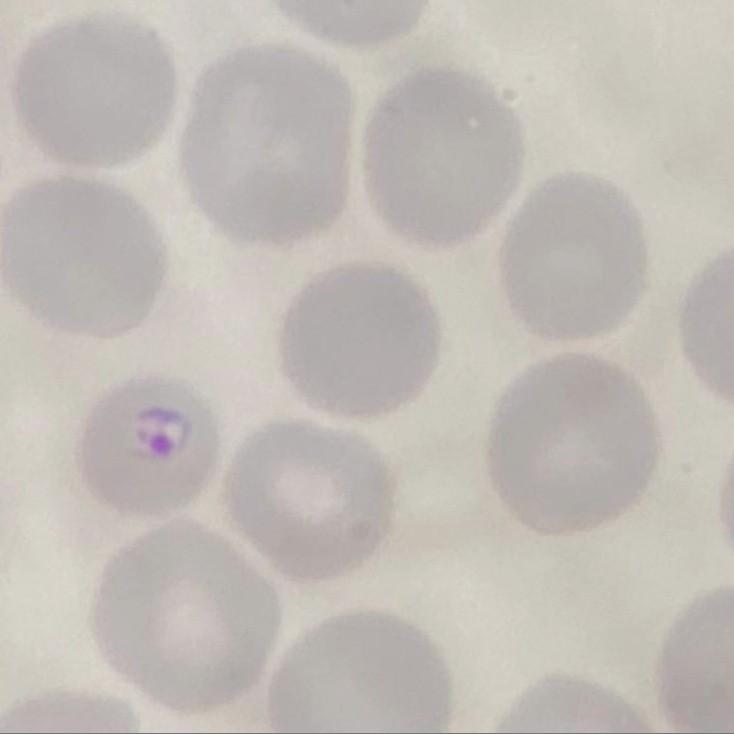Infected: (76, 373, 219, 513)
Uninfected: (98, 521, 271, 712), (180, 55, 355, 240), (494, 353, 658, 539), (226, 415, 394, 582), (368, 67, 523, 242), (0, 177, 165, 341), (498, 167, 649, 341), (282, 263, 437, 421), (14, 17, 174, 168), (266, 609, 449, 734)
